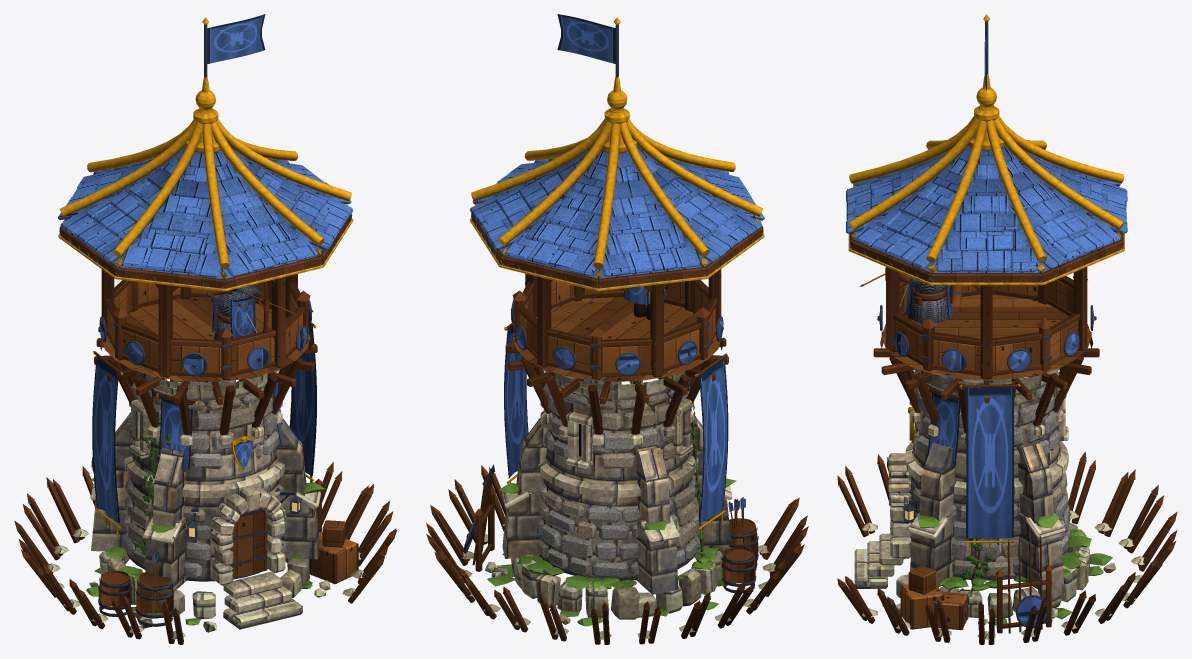
The model's file is archer_tower_L5.glb.
3 renders of one model, left to right at view 1: azimuth 30°, elevation 25°; view 2: azimuth 150°, elevation 25°; view 3: azimuth 270°, elevation 25°, orthographic.
Parts seen in each view (by area): view 1: Tower, Archer, Banner; view 2: Tower, Banner, Archer; view 3: Tower, Archer.
Part boxes in pixels (bbox=[...]): Tower: bbox=[14, 17, 397, 644]; Archer: bbox=[206, 281, 296, 339]; Banner: bbox=[207, 14, 265, 63]; Tower: bbox=[426, 17, 808, 644]; Banner: bbox=[557, 14, 615, 63]; Archer: bbox=[620, 285, 667, 319]; Tower: bbox=[837, 14, 1177, 644]; Archer: bbox=[860, 268, 962, 331].
Size of the model in its own units: 4.84 by 7.83 by 4.28.
Materials: 15 (15 with a texture image).
